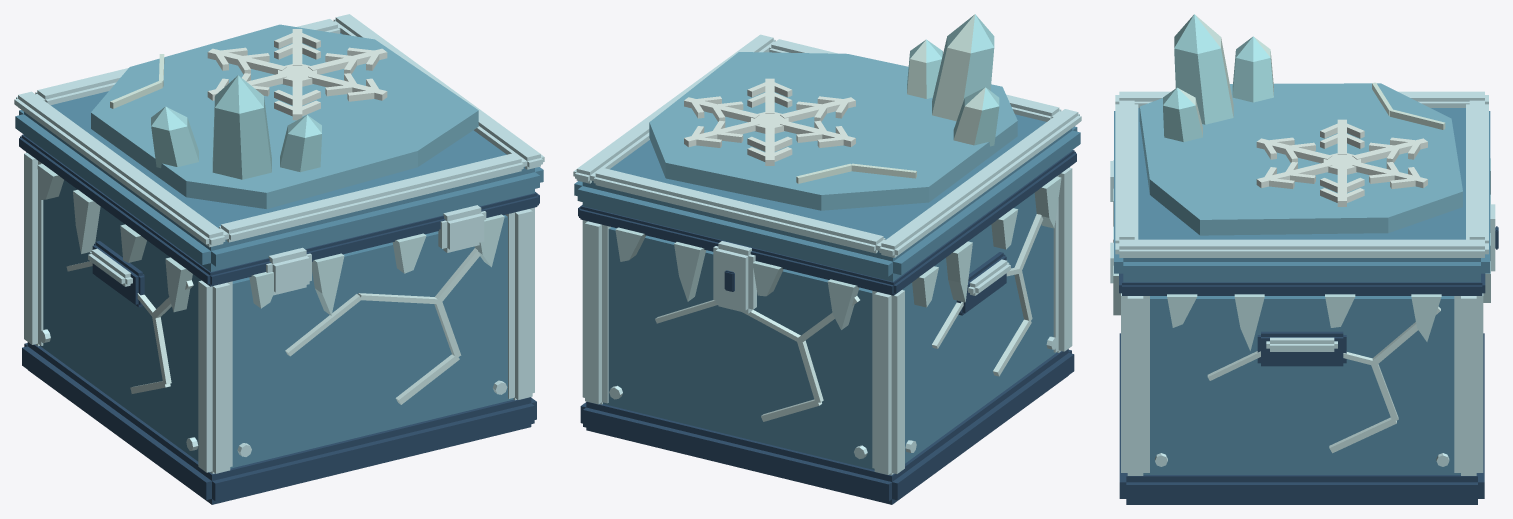
The model's file is crate_gelo.fbx.
3 views of the same model, side by side, from view 1: azimuth 30°, elevation 25°; view 2: azimuth 150°, elevation 25°; view 3: azimuth 270°, elevation 25° (orthographic). The views are drawn at different scales.
Visible parts, largest first — view 1: crate_gelo_caixa; view 2: crate_gelo_caixa; view 3: crate_gelo_caixa.
Boxes of the visible parts, x1,y1,x2,y2 form: crate_gelo_caixa: [14, 14, 544, 504]; crate_gelo_caixa: [573, 14, 1081, 504]; crate_gelo_caixa: [1110, 14, 1498, 504].
Size of the model in its own units: 2.68 by 2.85 by 2.7.
1 material, 1 textured.
